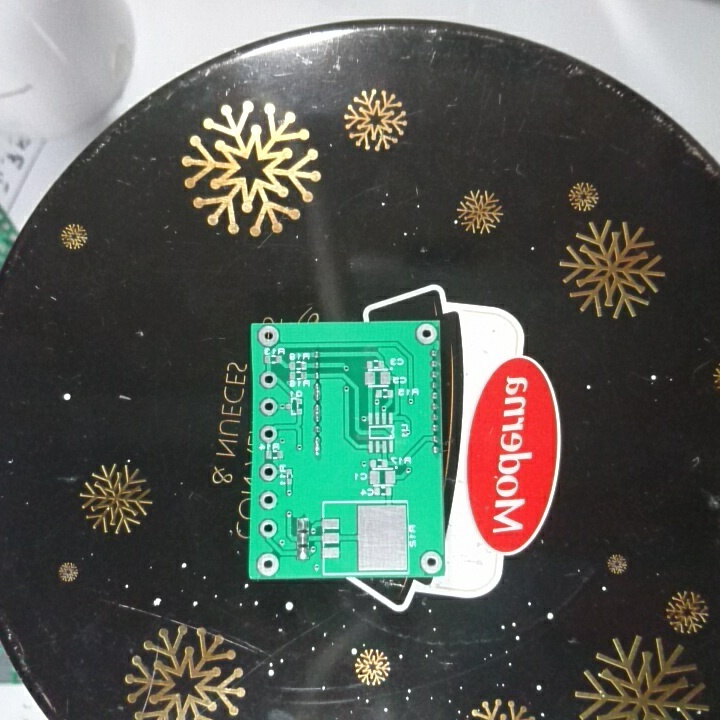F: (417, 549, 445, 576), (255, 552, 283, 578), (414, 320, 439, 346), (256, 325, 279, 349), (258, 490, 279, 511), (257, 517, 277, 539), (259, 396, 278, 418), (259, 462, 279, 482), (259, 423, 277, 443), (259, 371, 278, 389)
P: (312, 401, 323, 423), (313, 380, 324, 402), (312, 435, 322, 456)
